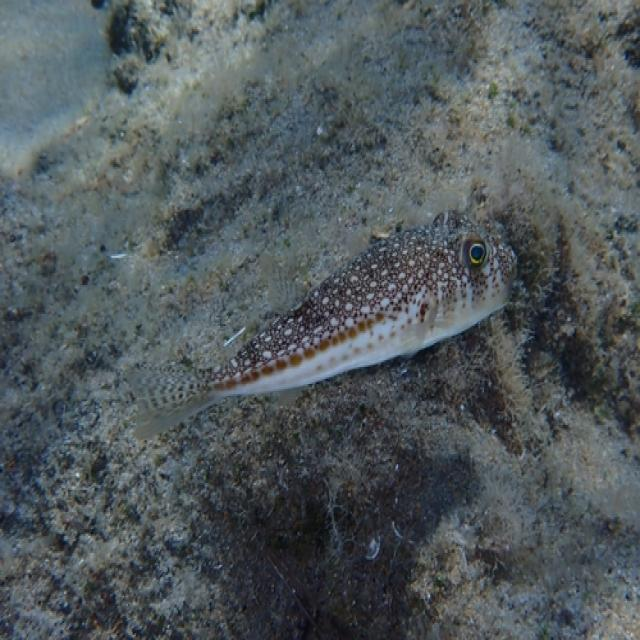Balik: (127, 214, 515, 438)
